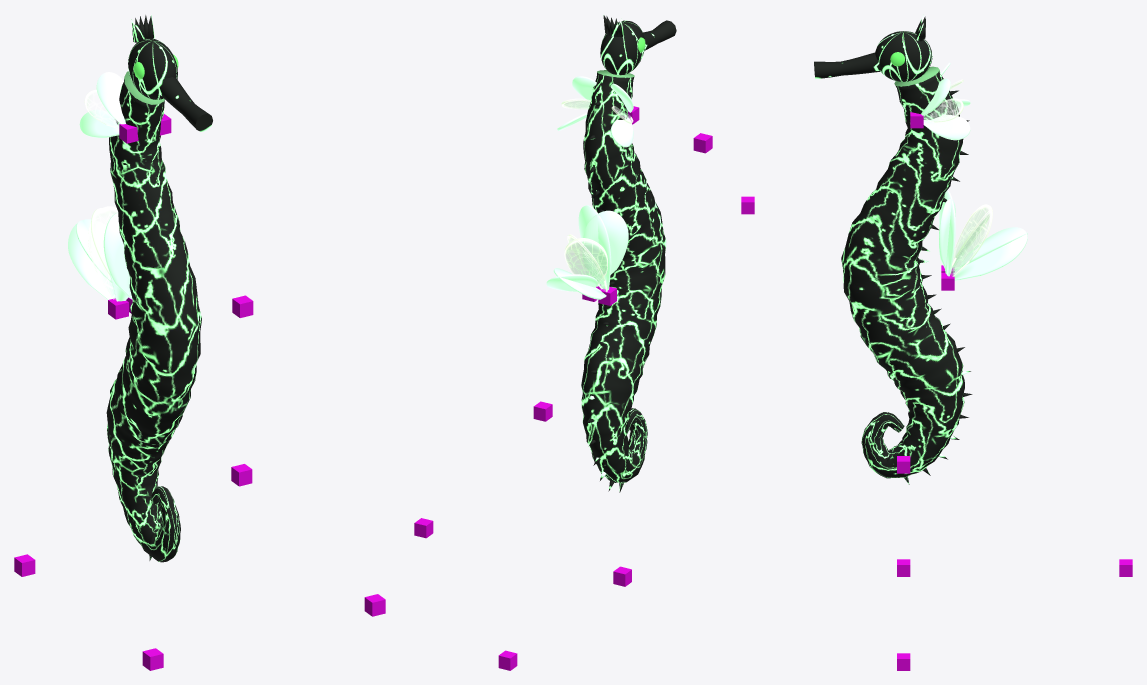
File: 02_cavalluccio_neon.glb
3 renders of one model, left to right at view 1: azimuth 30°, elevation 25°; view 2: azimuth 150°, elevation 25°; view 3: azimuth 270°, elevation 25°, orthographic. The views are drawn at different scales.
Visible parts, largest first — view 1: Cavalluccio__Pelle_Tribale__Galleggiamento, Cavalluccio__Scia_Ali__Galleggiamento, Cavalluccio__Testa_Tribale__Galleggiamento, Cavalluccio__Ali_Frenetiche__Ala_Dorsale_L, Cavalluccio__Ali_Frenetiche__Ala_Dorsale_R, Cavalluccio__Ali_Frenetiche__Ala_Pettorale_L; view 2: Cavalluccio__Pelle_Tribale__Galleggiamento, Cavalluccio__Scia_Ali__Galleggiamento, Cavalluccio__Testa_Tribale__Galleggiamento, Cavalluccio__Ali_Frenetiche__Ala_Dorsale_R, Cavalluccio__Ali_Frenetiche__Ala_Dorsale_L; view 3: Cavalluccio__Pelle_Tribale__Galleggiamento, Cavalluccio__Scia_Ali__Galleggiamento, Cavalluccio__Testa_Tribale__Galleggiamento, Cavalluccio__Ali_Frenetiche__Ala_Dorsale_R, Cavalluccio__Ali_Frenetiche__Ala_Pettorale_R.
Part boxes in pixels (<box>): Cavalluccio__Pelle_Tribale__Galleggiamento: <box>106,71,201,562</box>; Cavalluccio__Scia_Ali__Galleggiamento: <box>68,72,164,301</box>; Cavalluccio__Testa_Tribale__Galleggiamento: <box>128,15,212,560</box>; Cavalluccio__Ali_Frenetiche__Ala_Dorsale_L: <box>88,206,118,299</box>; Cavalluccio__Ali_Frenetiche__Ala_Dorsale_R: <box>91,208,112,276</box>; Cavalluccio__Ali_Frenetiche__Ala_Pettorale_L: <box>84,89,119,128</box>; Cavalluccio__Pelle_Tribale__Galleggiamento: <box>581,70,666,482</box>; Cavalluccio__Scia_Ali__Galleggiamento: <box>546,76,633,299</box>; Cavalluccio__Testa_Tribale__Galleggiamento: <box>587,14,676,492</box>; Cavalluccio__Ali_Frenetiche__Ala_Dorsale_R: <box>564,238,608,286</box>; Cavalluccio__Ali_Frenetiche__Ala_Dorsale_L: <box>567,234,607,292</box>; Cavalluccio__Pelle_Tribale__Galleggiamento: <box>841,66,964,478</box>; Cavalluccio__Scia_Ali__Galleggiamento: <box>921,62,1027,280</box>; Cavalluccio__Testa_Tribale__Galleggiamento: <box>814,15,972,484</box>; Cavalluccio__Ali_Frenetiche__Ala_Dorsale_R: <box>950,204,992,276</box>; Cavalluccio__Ali_Frenetiche__Ala_Pettorale_R: <box>923,98,963,122</box>.
Size of the model in its own units: 1.81 by 4.14 by 2.64.
Materials: 6 (3 with a texture image).
